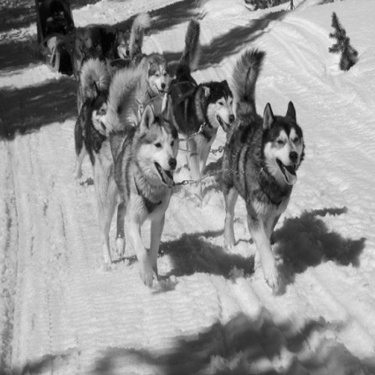dog: (214, 34, 310, 298), (99, 61, 187, 298), (165, 18, 239, 197), (57, 54, 135, 188), (123, 8, 177, 120), (42, 20, 92, 88), (109, 21, 141, 75)
